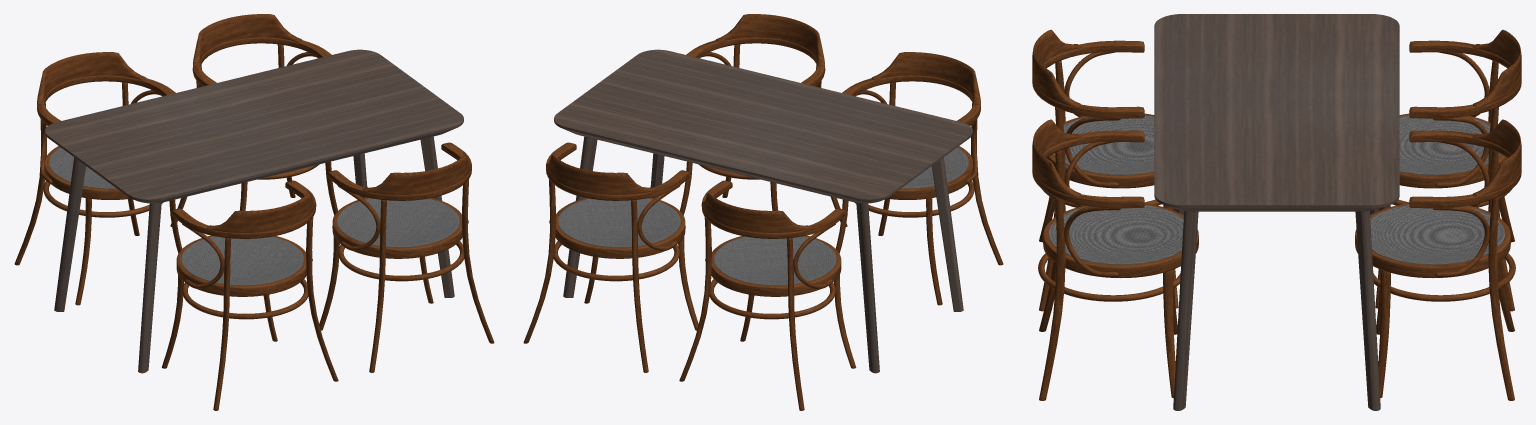
The model's file is wooden-dining-set.glb.
The picture shows the model from 3 angles, left to right: view 1: azimuth 30°, elevation 25°; view 2: azimuth 150°, elevation 25°; view 3: azimuth 270°, elevation 25°; orthographic projection. The views are drawn at different scales.
Visible parts, largest first — view 1: Top, Chair.004, Chair.001, Chair.003, Legs, Chair.002; view 2: Top, Chair.003, Chair.002, Chair.004, Legs, Chair.001; view 3: Top, Chair.001, Chair.002, Chair.004, Chair.003, Legs.
Boxes of the visible parts, x1,y1,x2,y2 form: Top: (45,49,463,203); Chair.004: (161,180,338,410); Chair.001: (319,142,494,372); Chair.003: (14,52,182,305); Legs: (54,136,454,373); Chair.002: (170,14,337,226); Top: (554,49,972,203); Chair.003: (679,180,856,410); Chair.002: (523,142,698,372); Chair.004: (835,52,1003,305); Legs: (563,136,963,373); Chair.001: (680,14,847,226); Top: (1154,14,1399,211); Chair.001: (1032,119,1198,400); Chair.002: (1355,119,1521,400); Chair.004: (1032,29,1178,311); Chair.003: (1375,29,1521,311); Legs: (1173,208,1380,410).
Size of the model in its own units: 1.8 by 0.9875 by 1.95.
Materials: 3 (3 with a texture image).
